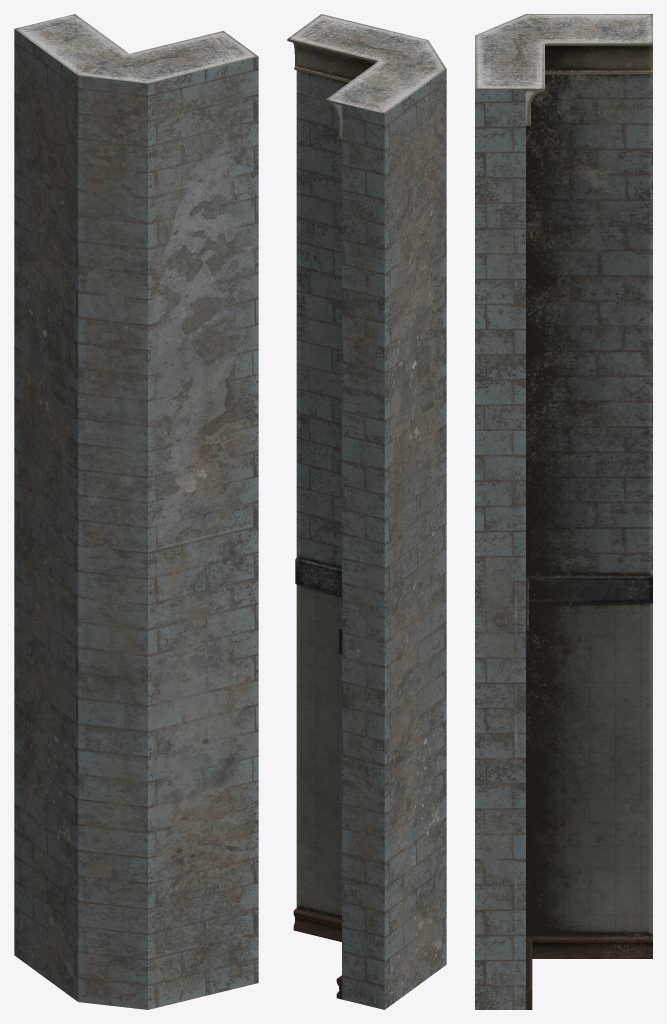
The model's file is wallcorner.glb.
The picture shows the model from 3 angles, left to right: view 1: azimuth 30°, elevation 25°; view 2: azimuth 150°, elevation 25°; view 3: azimuth 270°, elevation 25°; orthographic projection. The views are drawn at different scales.
Visible parts, largest first — view 1: 03_03_0; view 2: 03_03_0; view 3: 03_03_0.
Part boxes in pixels (box(x1,y1,x2,y2)): 03_03_0: box(14, 14, 258, 1009); 03_03_0: box(287, 14, 446, 1009); 03_03_0: box(475, 14, 652, 1009).
Size of the model in its own units: 0.7 by 4 by 0.7002.
1 material, 1 textured.
